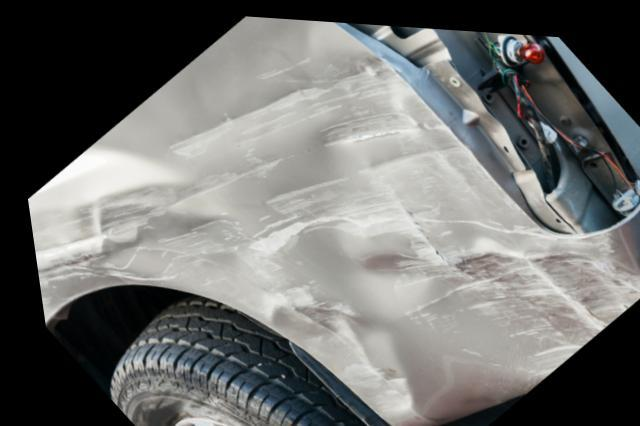dent: (22, 13, 640, 426)
lamp broken: (346, 18, 637, 230)
